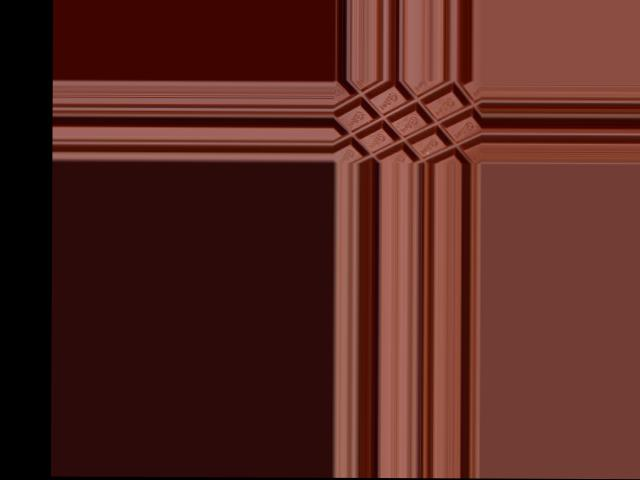chocolate: (337, 79, 481, 161)
